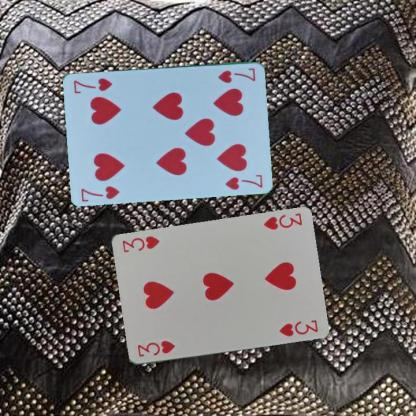3h: (260, 210, 302, 232), (135, 338, 176, 359)
7h: (78, 182, 122, 203), (216, 65, 257, 84)
